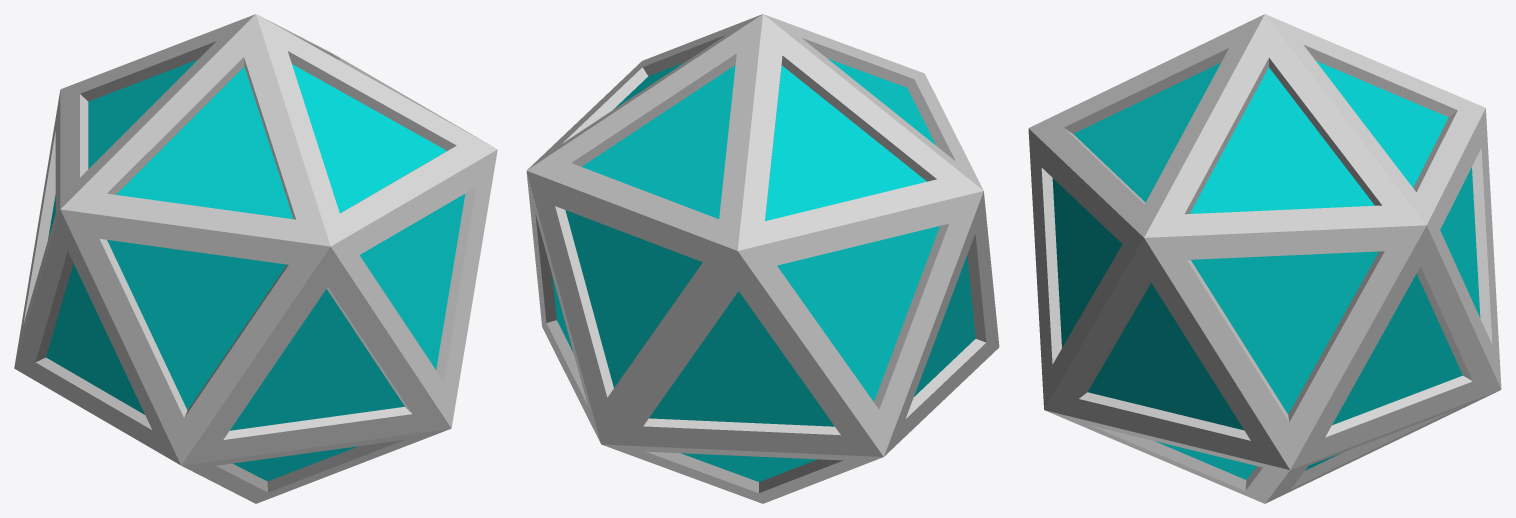
File: Beacon.fbx
The picture shows the model from 3 angles, left to right: view 1: azimuth 30°, elevation 25°; view 2: azimuth 150°, elevation 25°; view 3: azimuth 270°, elevation 25°; orthographic projection.
Parts seen in each view (by area): view 1: Icosphere; view 2: Icosphere; view 3: Icosphere.
Boxes of the visible parts, x1,y1,x2,y2 form: Icosphere: [14, 14, 497, 503]; Icosphere: [526, 14, 999, 503]; Icosphere: [1028, 14, 1501, 503].
Bounding box in the file's own units: 178 × 200 × 175.
